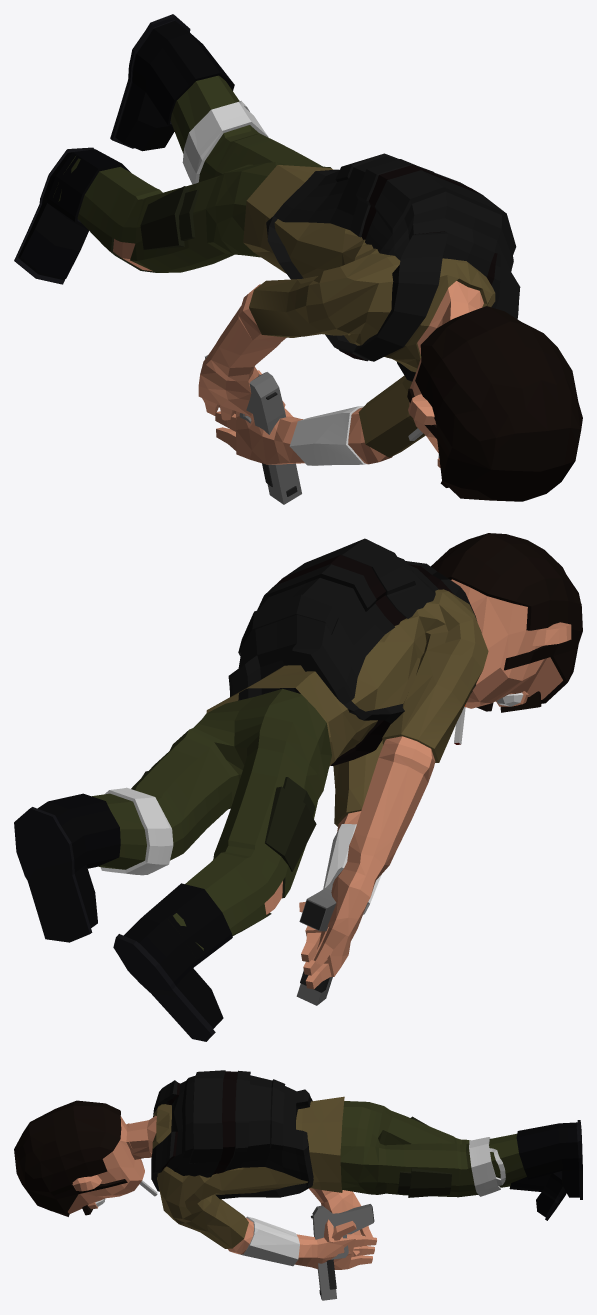
Rendered from frame_0054.obj.
The picture shows the model from 3 angles, top to bottom: view 1: azimuth 30°, elevation 25°; view 2: azimuth 150°, elevation 25°; view 3: azimuth 270°, elevation 25°; orthographic projection. The views are drawn at different scales.
Parts seen in each view (by area): view 1: Body, Gun; view 2: Body, Gun; view 3: Body, Gun.
Part boxes in pixels (x1,y1,x2,y2): Body: (14, 14, 582, 501); Gun: (205, 355, 301, 504); Body: (14, 533, 582, 1041); Gun: (296, 867, 343, 1005); Body: (14, 1070, 582, 1269); Gun: (311, 1204, 374, 1300).
Size of the model in its own units: 1.15 by 1.92 by 4.14.
